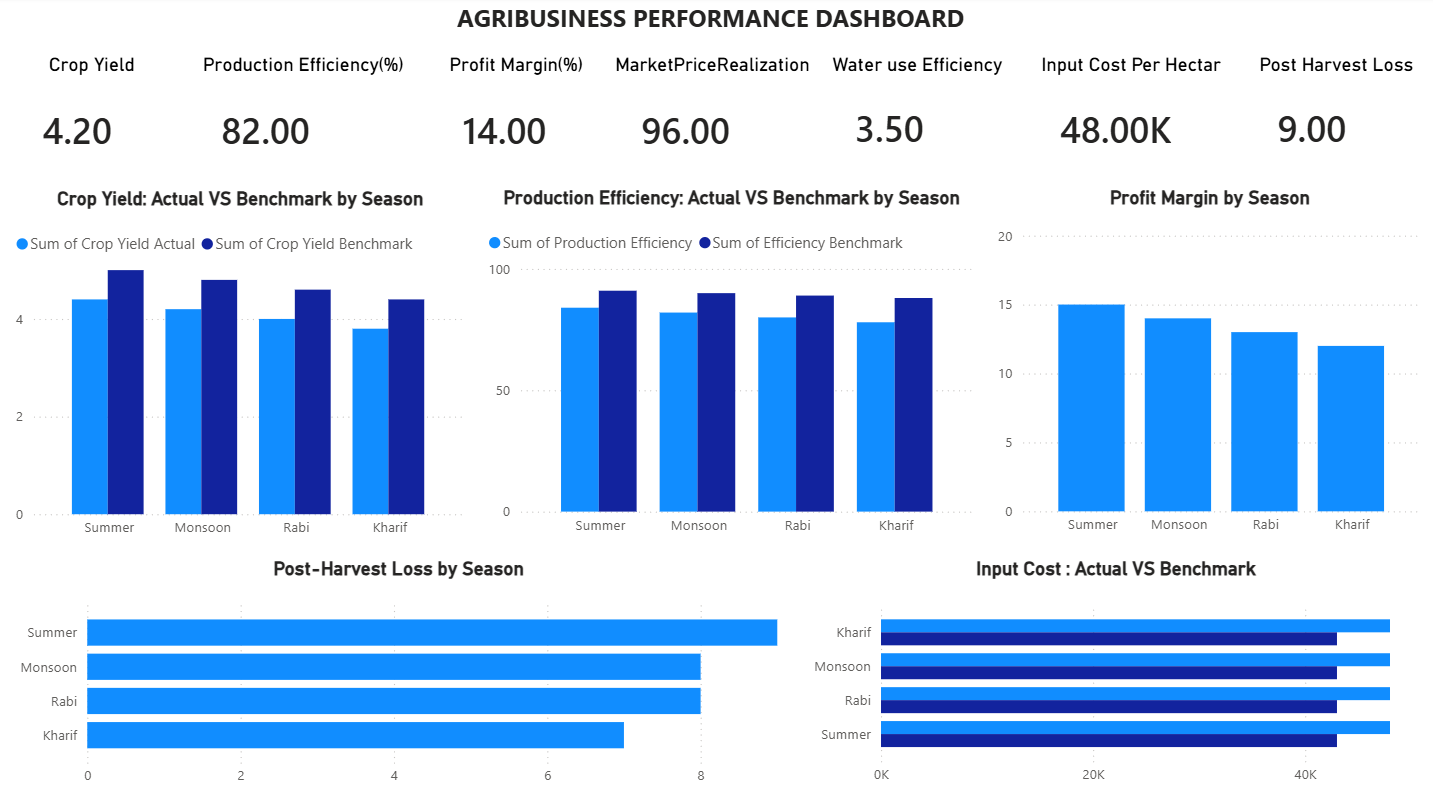

The page's visual inventory and layout, read from the dashboard file:
{"tool":"powerbi","page":{"name":"Page 1","canvas":[1280,720],"ordinal":0},"visuals":[{"type":"textbox","box":[382.3,0,502.1,47.6],"z":0},{"type":"cardVisual","title":"Crop Yield","fields":{"Data":["Sum(KPI_Data.Actual)"]},"box":[8.4,50.7,145.7,103.9],"z":1000},{"type":"cardVisual","title":"Production Efficiency(%)","fields":{"Data":["Sum(KPI_Data.Actual)"]},"box":[167.7,50.7,203.4,103.9],"z":2000},{"type":"cardVisual","title":"Profit Margin(%)","fields":{"Data":["Sum(KPI_Data.Actual)"]},"box":[382.4,50.7,152.9,103.9],"z":3000},{"type":"cardVisual","title":"MarketPriceRealization","fields":{"Data":["Sum(KPI_Data.Actual)"]},"box":[541.7,50.7,184.7,103.9],"z":4000},{"type":"cardVisual","title":"Water use Efficiency","fields":{"Data":["Sum(KPI_Data.Actual)"]},"box":[732.3,50.7,168.9,100.1],"z":5000},{"type":"cardVisual","title":"Input Cost Per Hectar","fields":{"Data":["Sum(KPI_Data.Actual)"]},"box":[914.5,50.7,184.6,101.3],"z":6000},{"type":"cardVisual","title":"Post Harvest Loss","fields":{"Data":["Sum(KPI_Data.Actual)"]},"box":[1108.7,50.7,162.9,100.1],"z":7000},{"type":"clusteredColumnChart","title":"Crop Yield: Actual VS Benchmark by Season","fields":{"Category":["Trend_Data.Season"],"Y":["Sum(Trend_Data.Crop Yield Actual)","Sum(Trend_Data.Crop Yield Benchmark)"]},"box":[8.4,170.1,410.2,320.9],"z":8000},{"type":"clusteredColumnChart","title":"Production Efficiency: Actual VS Benchmark by Season","fields":{"Category":["Trend_Data.Season"],"Y":["Sum(Trend_Data.Production Efficiency)","Sum(Trend_Data.Efficiency Benchmark)"]},"box":[429.5,168.9,444,319.7],"z":9000},{"type":"clusteredColumnChart","title":"Profit Margin by Season","fields":{"Category":["Trend_Data.Season"],"Y":["Sum(Trend_Data.Profit Margin)"]},"box":[884.3,168.9,387.3,319.7],"z":10000},{"type":"clusteredBarChart","title":"Post-Harvest Loss by Season","fields":{"Category":["Trend_Data.Season"],"Y":["Sum(Trend_Data.Post-Harvest Loss)"]},"box":[8.4,499.5,692.5,212.3],"z":11000},{"type":"clusteredBarChart","title":"Input Cost : Actual VS Benchmark","fields":{"Category":["Trend_Data.Season"],"Y":["Sum(KPI_Data.Actual)","Sum(KPI_Data.Benchmark)"]},"box":[715.4,499.5,556.2,211.1],"z":12000}]}

Visuals, with their boxes in screenshot pixels (x1, y1, x2, y2), scaled from the page's 1280x720 canvas onto the 1433x801 screenshot:
textbox: x1=428, y1=0, x2=990, y2=53
"Crop Yield" cardVisual: x1=9, y1=56, x2=173, y2=172
"Production Efficiency(%)" cardVisual: x1=188, y1=56, x2=415, y2=172
"Profit Margin(%)" cardVisual: x1=428, y1=56, x2=599, y2=172
"MarketPriceRealization" cardVisual: x1=606, y1=56, x2=813, y2=172
"Water use Efficiency" cardVisual: x1=820, y1=56, x2=1009, y2=168
"Input Cost Per Hectar" cardVisual: x1=1024, y1=56, x2=1230, y2=169
"Post Harvest Loss" cardVisual: x1=1241, y1=56, x2=1424, y2=168
"Crop Yield: Actual VS Benchmark by Season" clusteredColumnChart: x1=9, y1=189, x2=469, y2=546
"Production Efficiency: Actual VS Benchmark by Season" clusteredColumnChart: x1=481, y1=188, x2=978, y2=544
"Profit Margin by Season" clusteredColumnChart: x1=990, y1=188, x2=1424, y2=544
"Post-Harvest Loss by Season" clusteredBarChart: x1=9, y1=556, x2=785, y2=792
"Input Cost : Actual VS Benchmark" clusteredBarChart: x1=801, y1=556, x2=1424, y2=791
